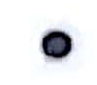cancer: (21, 12, 89, 75)
